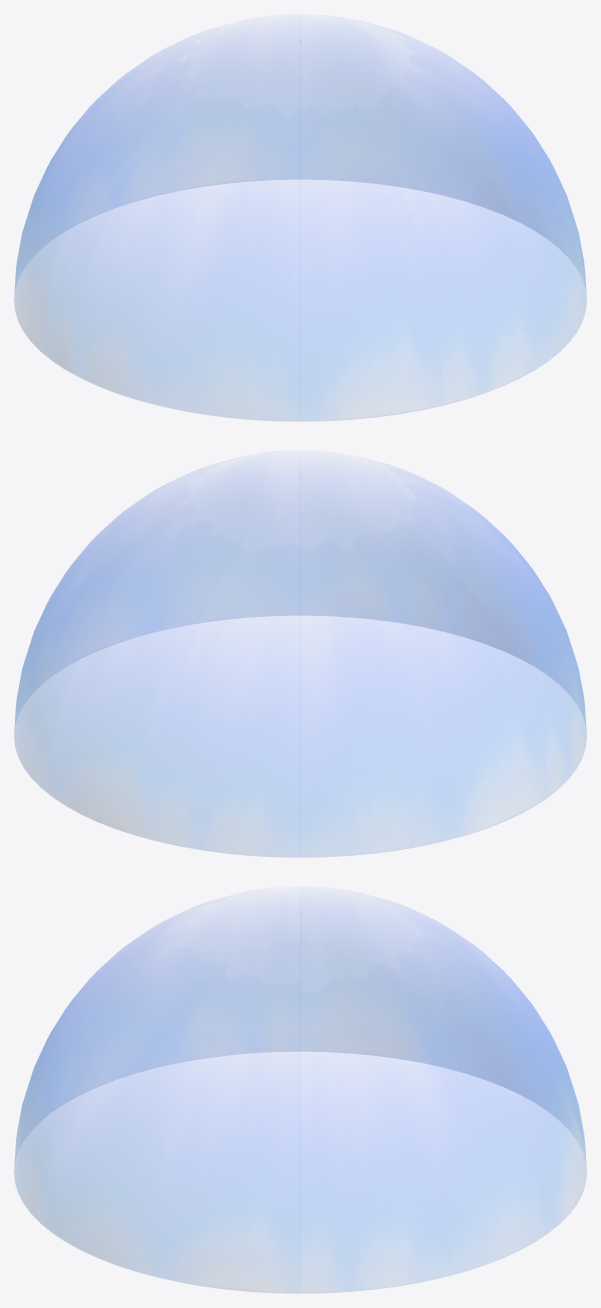
Rendered from shock_dome_azure.glb.
3 renders of one model, top to bottom at view 1: azimuth 30°, elevation 25°; view 2: azimuth 150°, elevation 25°; view 3: azimuth 270°, elevation 25°, orthographic.
Visible parts, largest first — view 1: dome; view 2: dome; view 3: dome.
Boxes of the visible parts, x1,y1,x2,y2 form: dome: (14,26,586,421); dome: (14,466,586,857); dome: (14,899,586,1293).
Bounding box in the file's own units: 2 × 1 × 2.
1 material, 1 textured.
